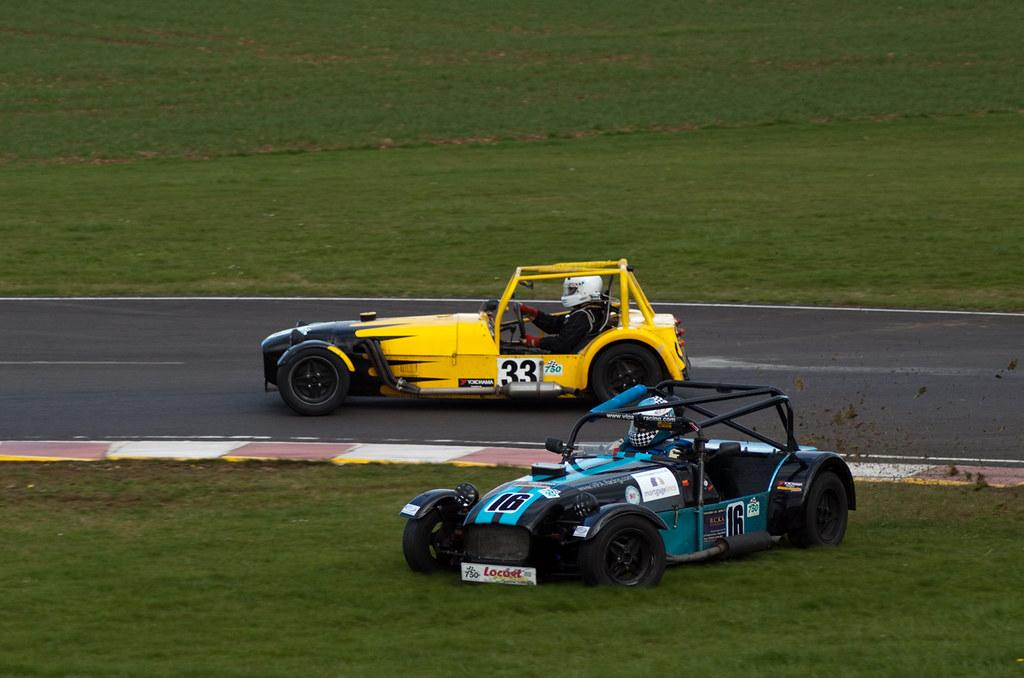car: (399, 379, 858, 589), (261, 258, 692, 417)
